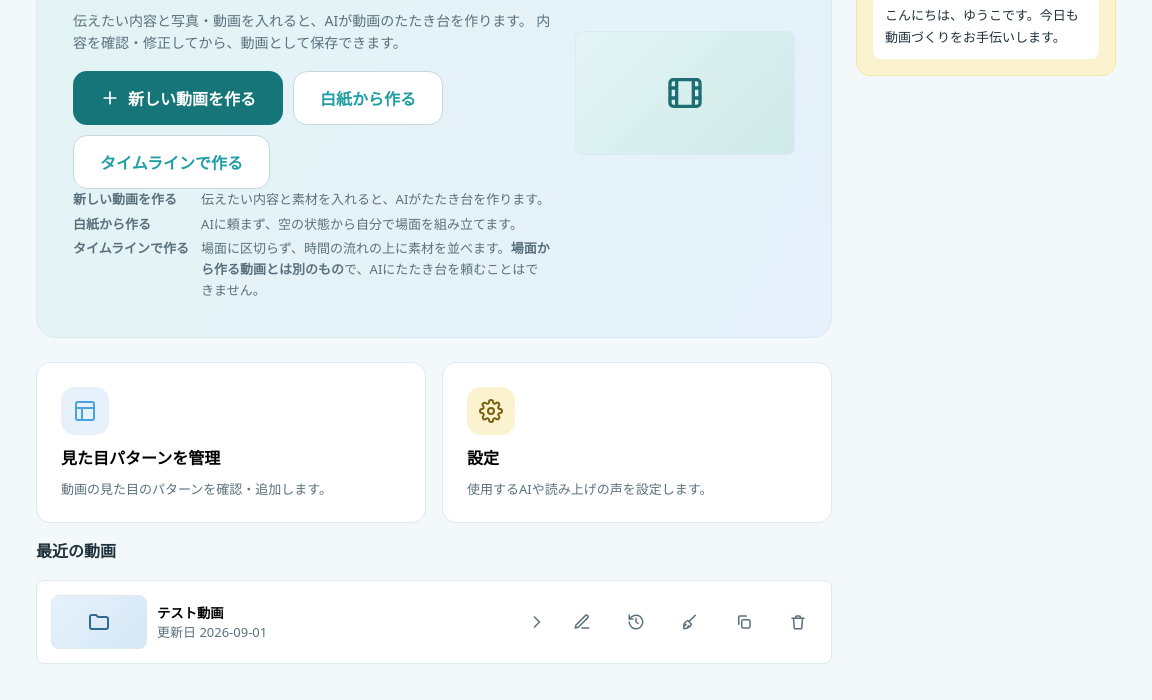
it: 開けなかった動画の復旧（#263） › 戻せなかったら黙らせない（次の行動を出す）
(page scrolled)
Click the button "テスト動画 更新日 2026-09-01" at (99, 622), box [51,595,547,649]
(page scrolled)
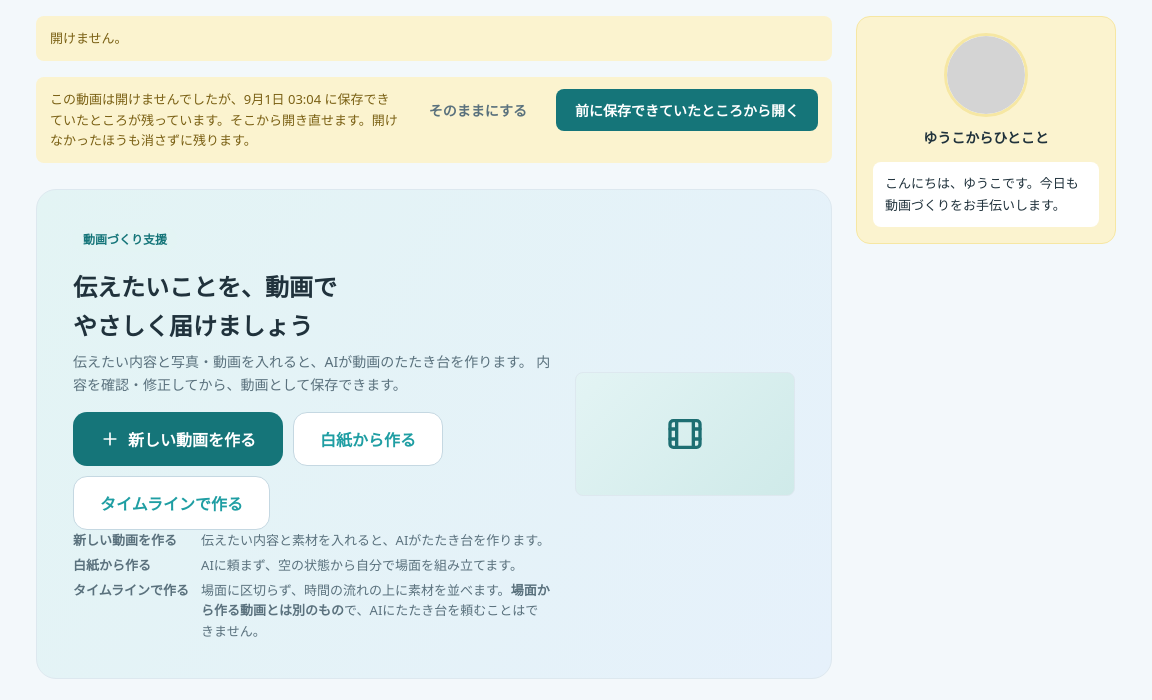
Click the button "前に保存できていたところから開く" at (687, 110), box [556,89,818,131]
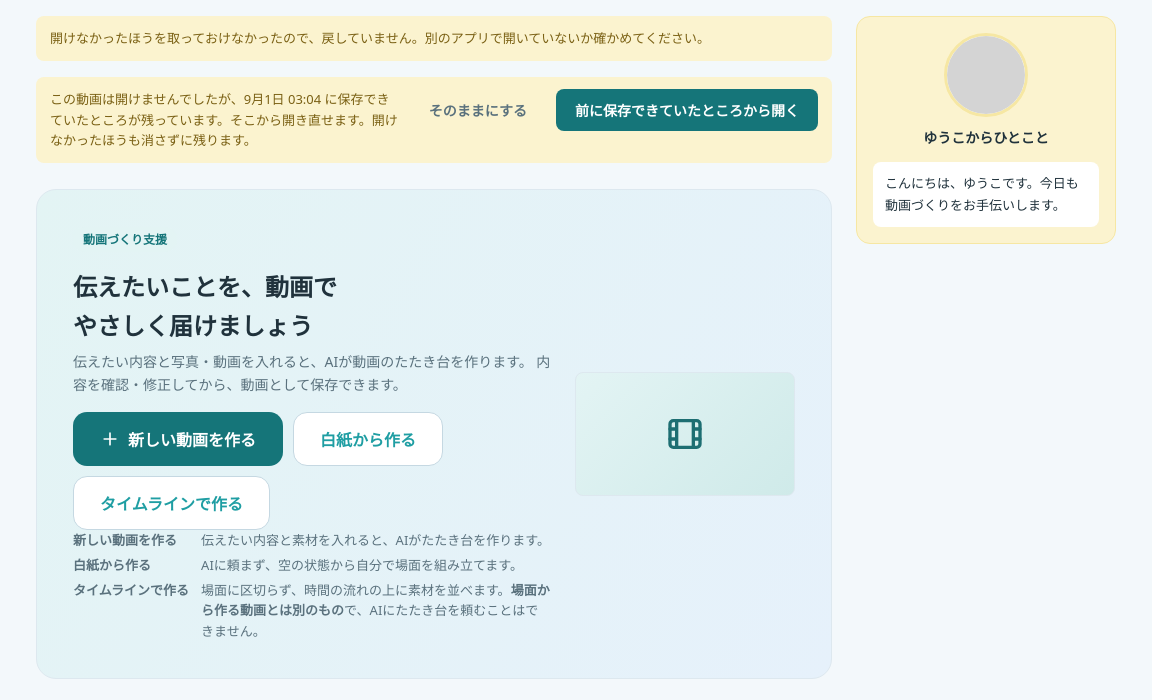
Now the text "別のアプリで開いていないか" is shown, box [50,29,710,47]
